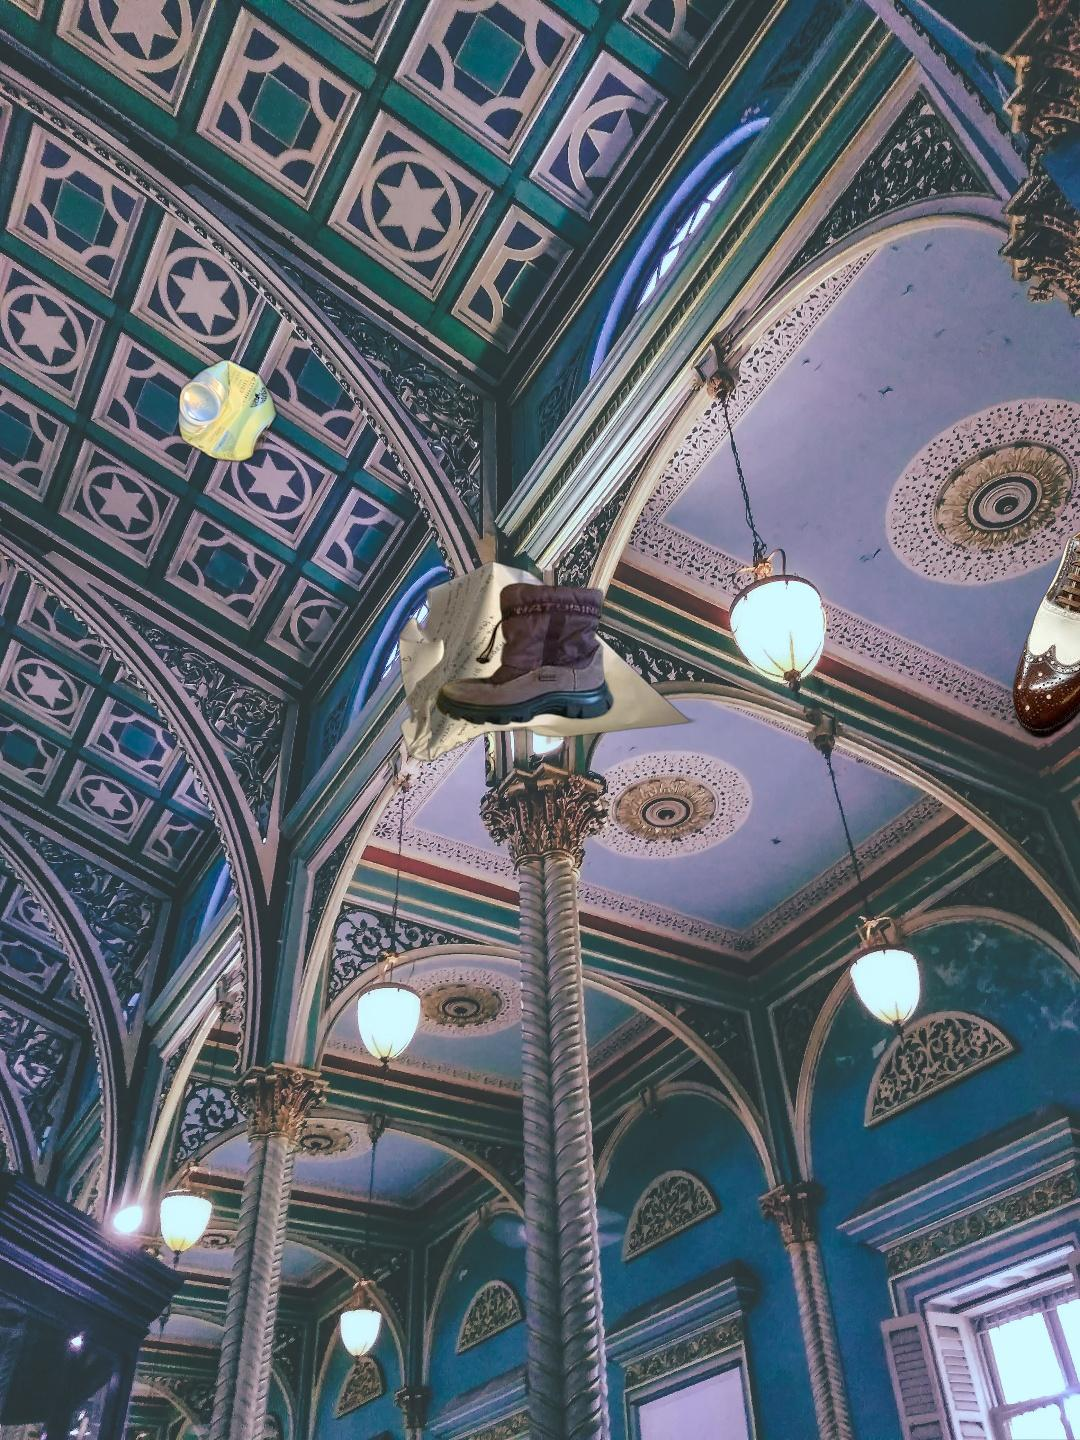metal-cans: (172, 354, 281, 468)
paper: (394, 558, 702, 765)
shoes: (433, 581, 619, 728), (1010, 486, 1080, 740)
trashbox-cardboard: (984, 1435, 1080, 1440)
